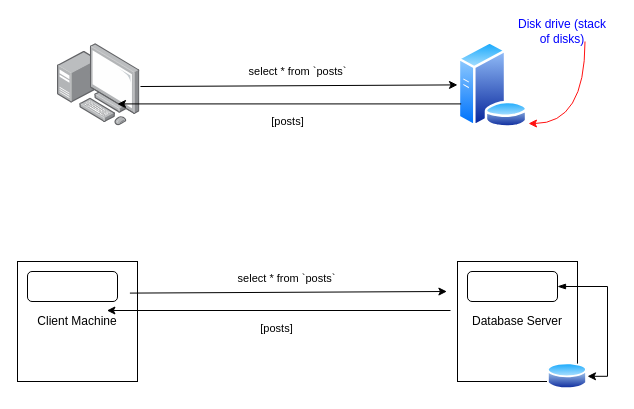
Image size: 634x409. Some labels were removed from this diagram. The centre of each missing label's shape, as x and y in pixels:
"Application" belongs at point (72, 286).
"DB Service" belongs at point (512, 286).
